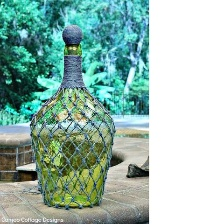bottle: (22, 37, 118, 212)
